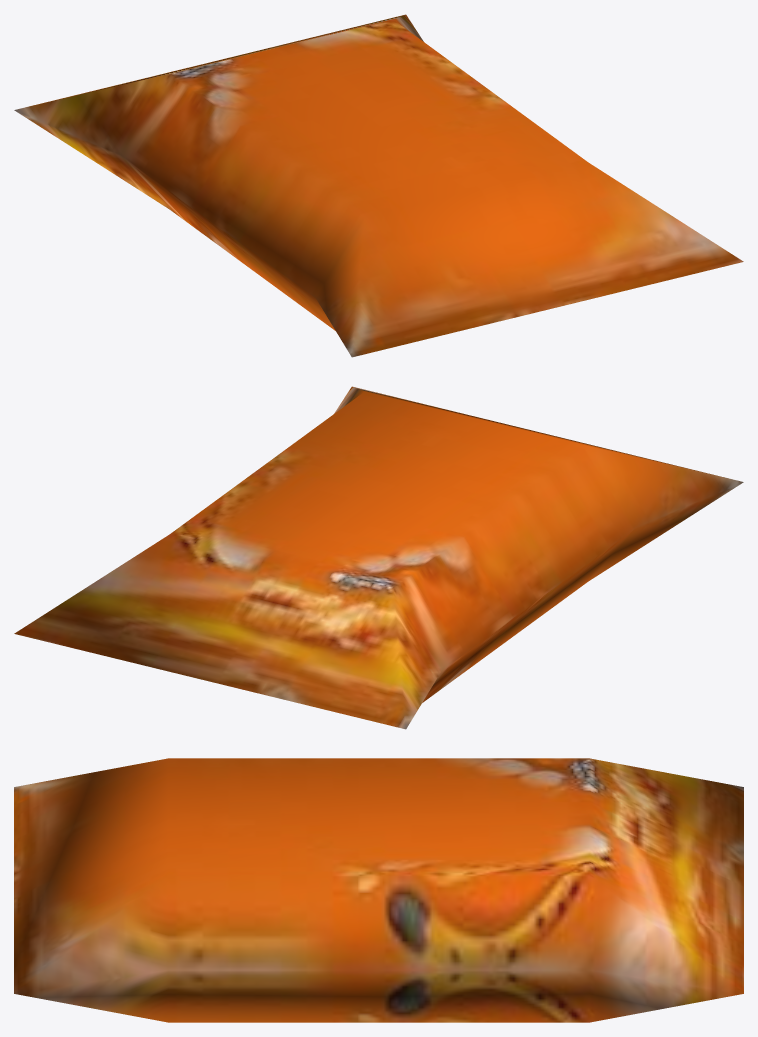
The model's file is Frying_03.glb.
3 views of the same model, one above another, from view 1: azimuth 30°, elevation 25°; view 2: azimuth 150°, elevation 25°; view 3: azimuth 270°, elevation 25° (orthographic). The views are drawn at different scales.
Parts seen in each view (by area): view 1: Frying_03; view 2: Frying_03; view 3: Frying_03.
Part boxes in pixels (x1,y1,x2,y2): Frying_03: (14, 14, 743, 357); Frying_03: (14, 386, 743, 729); Frying_03: (14, 758, 743, 1022).
Size of the model in its own units: 0.2306 by 0.0761 by 0.3442.
Materials: 1 (1 with a texture image).
